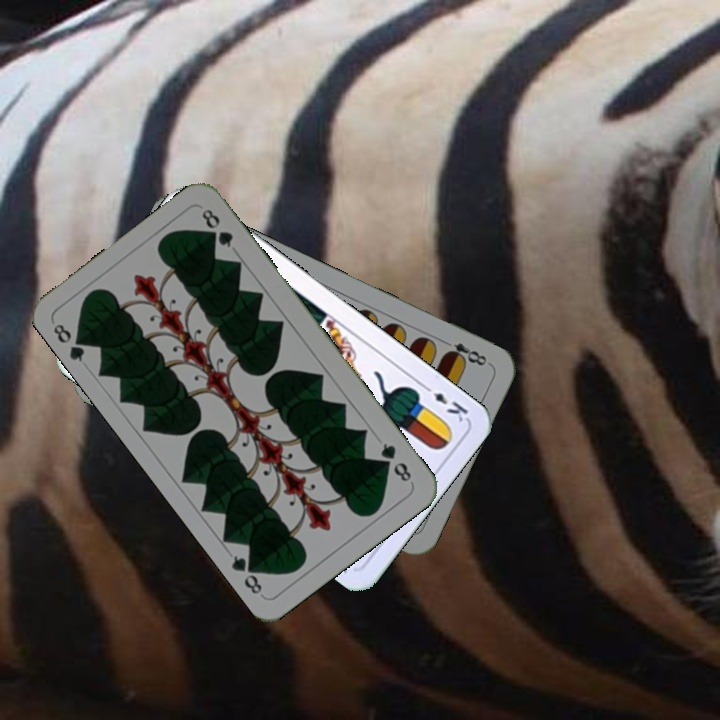E8: (437, 335, 492, 370)
EK: (418, 380, 471, 425)
G8: (49, 319, 92, 365), (376, 438, 414, 485)
